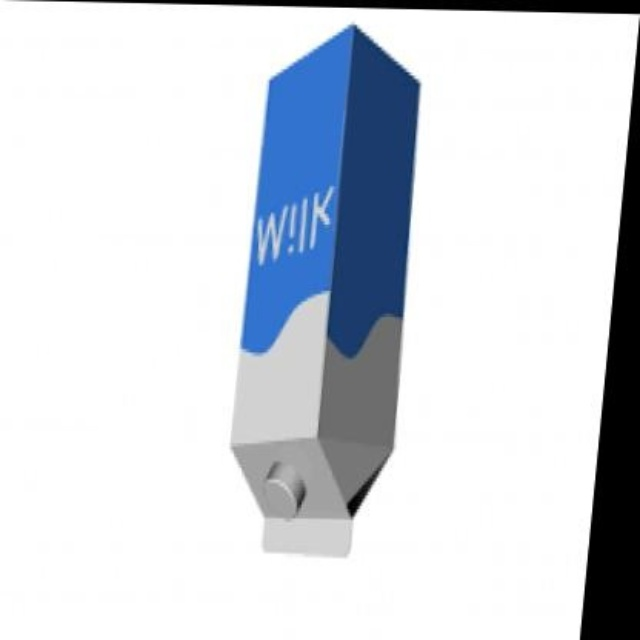trash: (231, 26, 417, 554)
